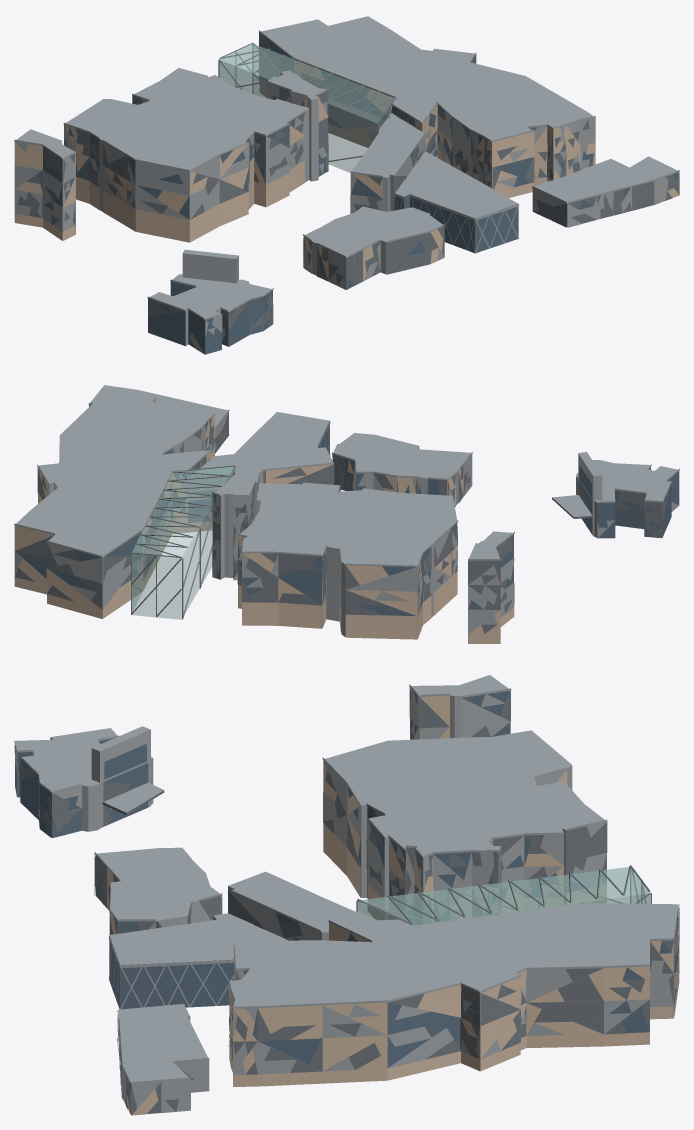
File: melbourne-federation-square.glb
3 renders of one model, top to bottom at view 1: azimuth 30°, elevation 25°; view 2: azimuth 150°, elevation 25°; view 3: azimuth 270°, elevation 25°, orthographic. The views are drawn at different scales.
Visible parts, largest first — view 1: Federation Square; view 2: Federation Square; view 3: Federation Square.
Boxes of the visible parts, x1,y1,x2,y2 form: Federation Square: (14, 16, 679, 354); Federation Square: (14, 385, 679, 643); Federation Square: (14, 675, 679, 1115).
Size of the model in its own units: 211 by 31.1 by 173.
